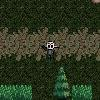Jason: (40, 40, 61, 60)
Obstacle: (51, 85, 72, 100)
Slow: (0, 84, 32, 100), (72, 85, 92, 100)
